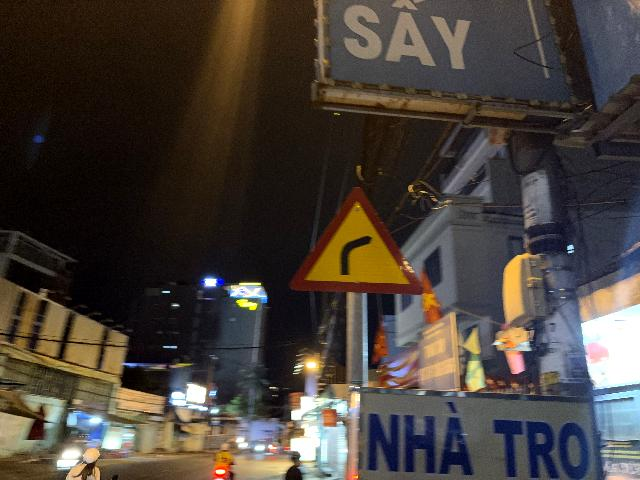cho-ngoat-nguy-hiem-ben-phai: (289, 187, 424, 296)
